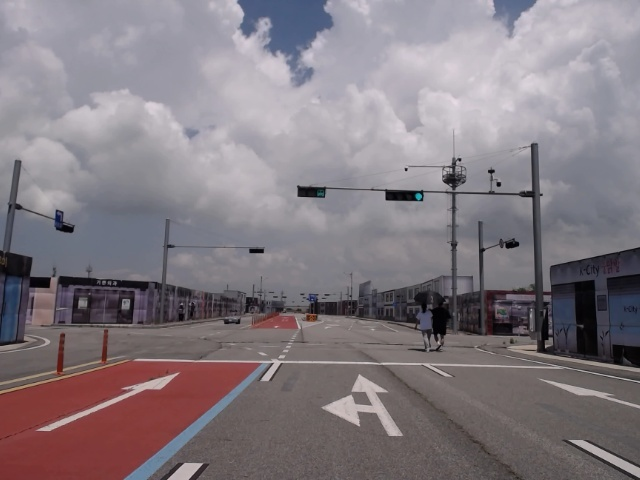straight_green_4: (385, 189, 424, 201)
